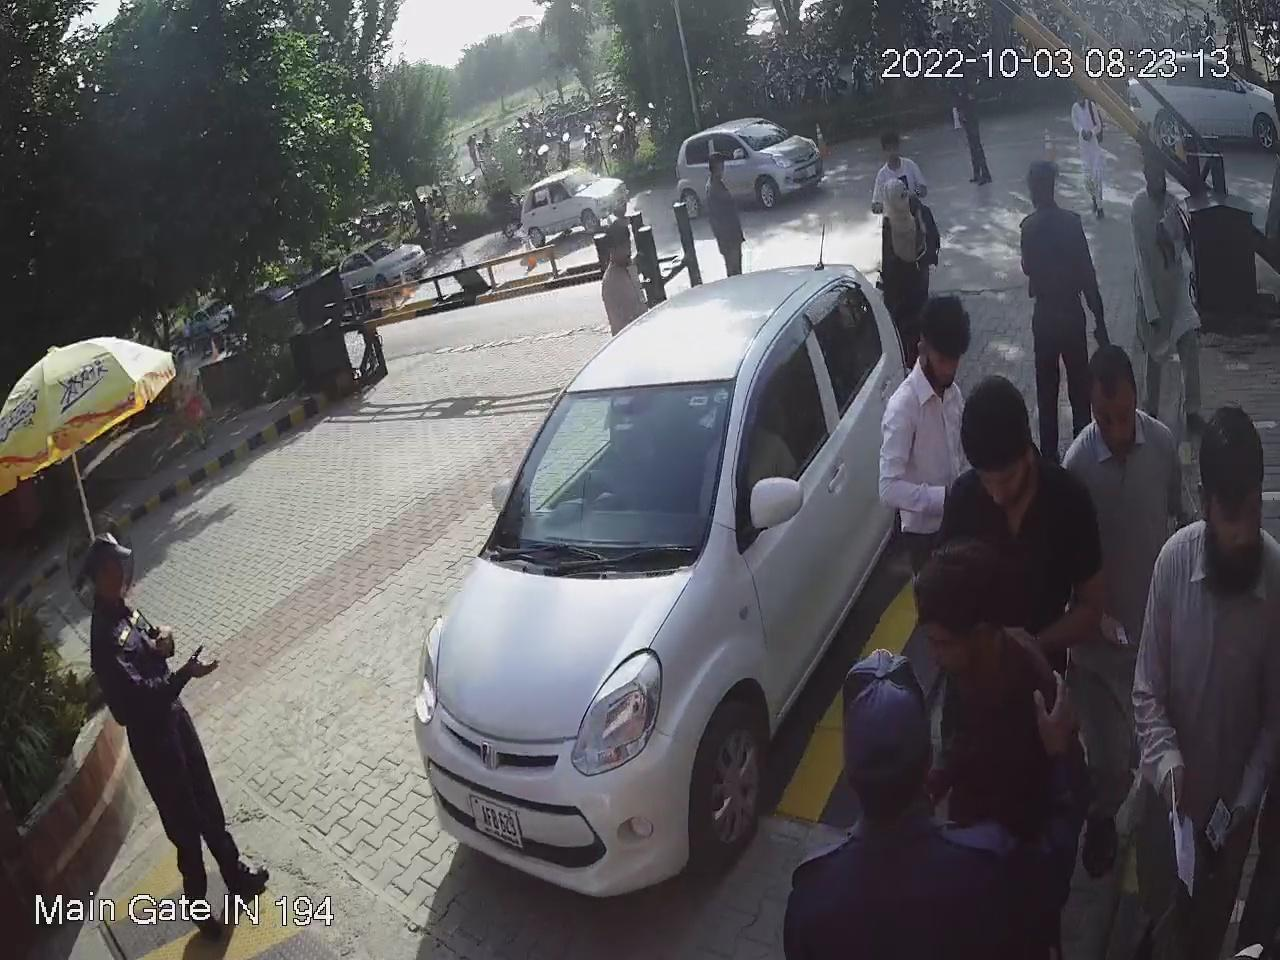windshield: (486, 372, 738, 570)
